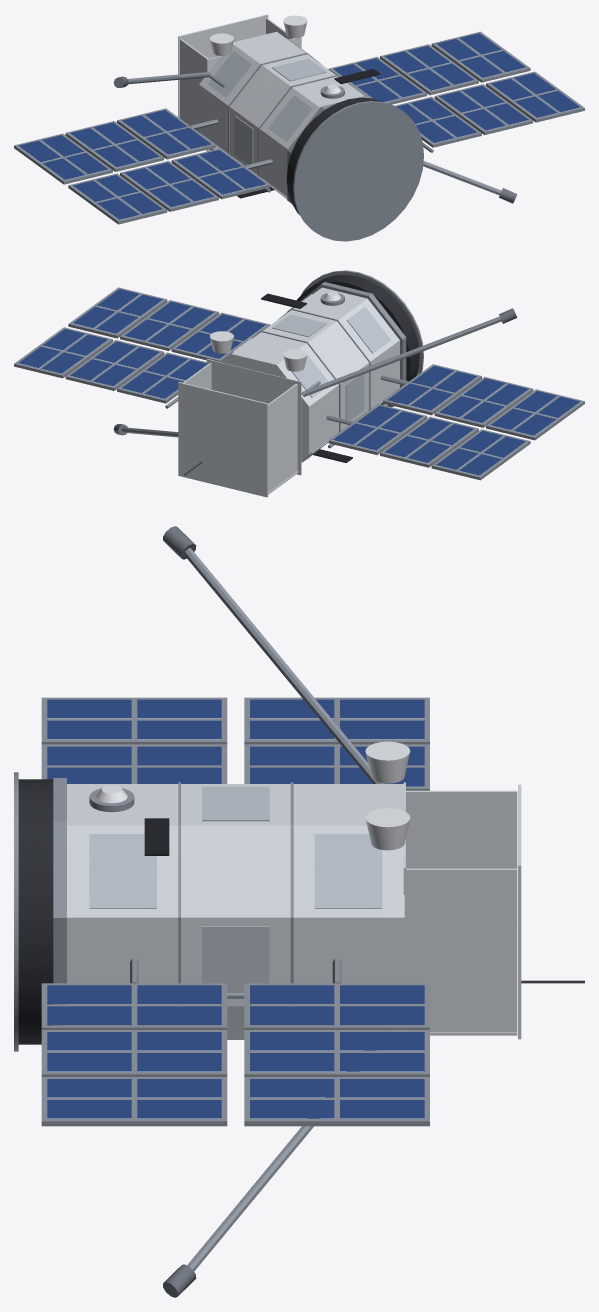
The model's file is oao-2.glb.
3 renders of one model, top to bottom at view 1: azimuth 30°, elevation 25°; view 2: azimuth 150°, elevation 25°; view 3: azimuth 270°, elevation 25°, orthographic. The views are drawn at different scales.
Parts seen in each view (by area): view 1: body, solar-panel, foil; view 2: foil, solar-panel, body; view 3: foil, body, solar-panel.
Boxes of the visible parts, <box> form: body: <box>14,15,584,241</box>; solar-panel: <box>18,33,580,219</box>; foil: <box>178,14,364,196</box>; foil: <box>178,287,399,497</box>; solar-panel: <box>18,289,580,475</box>; body: <box>14,270,584,480</box>; foil: <box>67,782,521,1039</box>; body: <box>14,526,584,1297</box>; solar-panel: <box>47,699,424,1118</box>.
Bounding box in the file's own units: 8.9 × 4.04 × 5.07.
